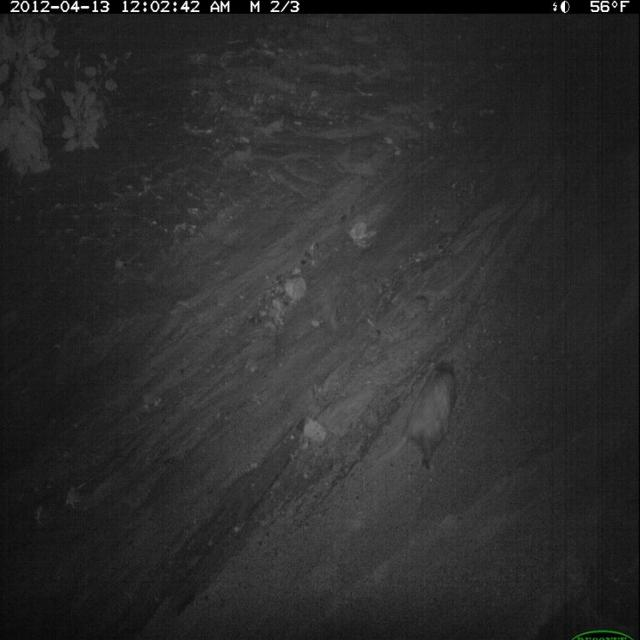opossum: (373, 355, 463, 474)
